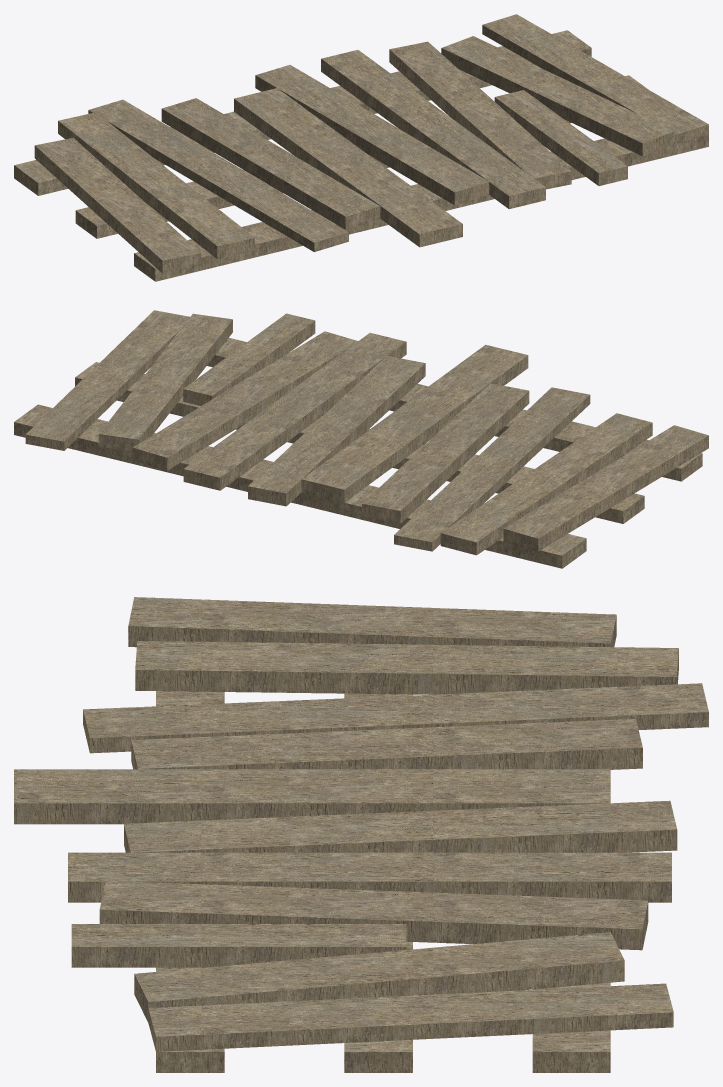
File: Ladder 3.fbx
3 views of the same model, one above another, from view 1: azimuth 30°, elevation 25°; view 2: azimuth 150°, elevation 25°; view 3: azimuth 270°, elevation 25° (orthographic). The views are drawn at different scales.
Parts seen in each view (by area): view 1: Model; view 2: Model; view 3: Model.
Boxes of the visible parts, x1,y1,x2,y2 form: Model: [14, 14, 708, 281]; Model: [14, 310, 708, 568]; Model: [14, 597, 708, 1072].
Size of the model in its own units: 88.89 by 4 by 60.13.
